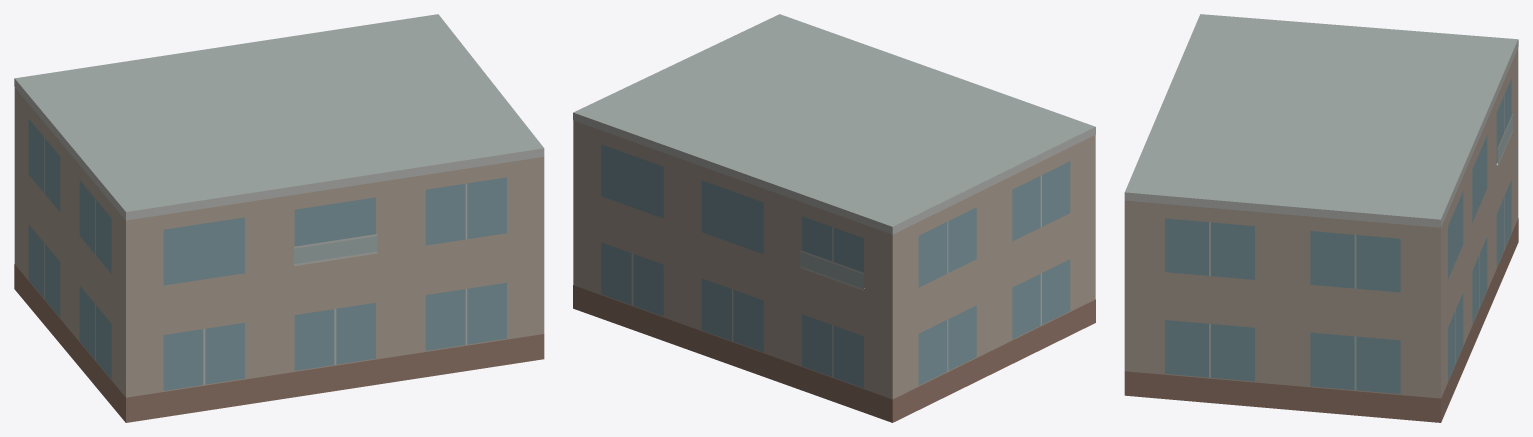
Rendered from survey-upis-32785924.glb.
3 renders of one model, left to right at view 1: azimuth 30°, elevation 25°; view 2: azimuth 150°, elevation 25°; view 3: azimuth 270°, elevation 25°, orthographic. The views are drawn at different scales.
Parts seen in each view (by area): view 1: survey-upis-32785924.tmp; view 2: survey-upis-32785924.tmp; view 3: survey-upis-32785924.tmp.
Boxes of the visible parts, x1,y1,x2,y2 form: survey-upis-32785924.tmp: (14,14,544,422); survey-upis-32785924.tmp: (573,14,1095,422); survey-upis-32785924.tmp: (1124,14,1518,422).
Bounding box in the file's own units: 13.25 × 6.1 × 10.72.
